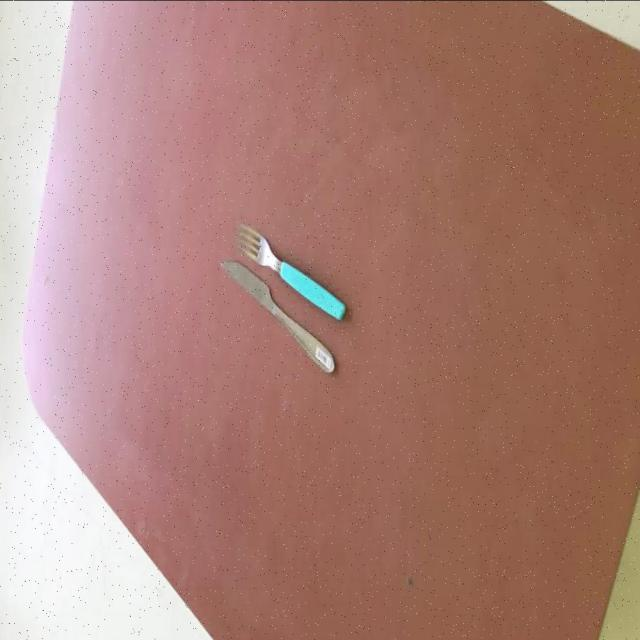Fork: (236, 220, 346, 319)
Knife: (219, 257, 335, 372)
